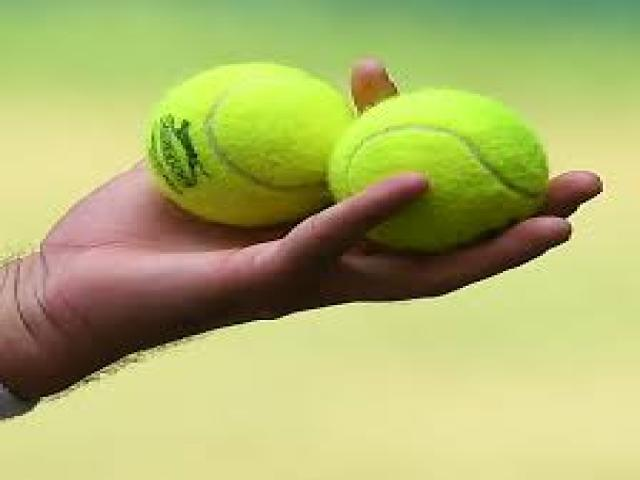tennis-ball: (326, 83, 551, 254), (140, 58, 354, 228)
